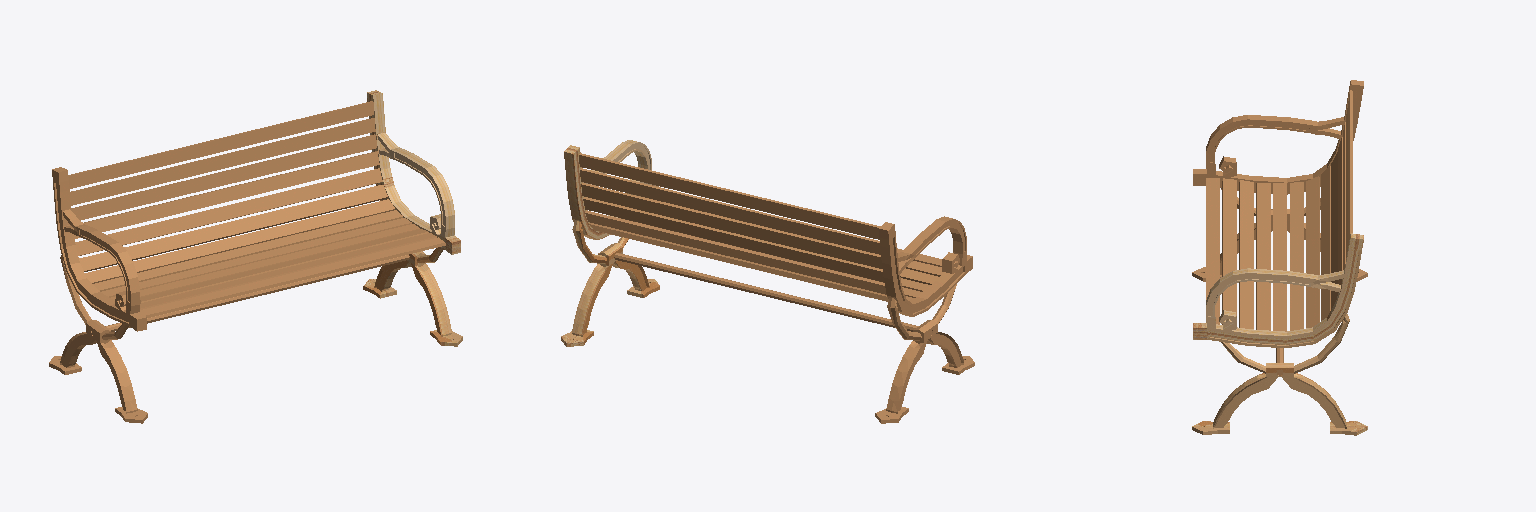
The picture shows the model from 3 angles: view 1: azimuth 30°, elevation 25°; view 2: azimuth 150°, elevation 25°; view 3: azimuth 270°, elevation 25°; orthographic projection.
Visible parts, largest first — view 1: Bench_LowRes; view 2: Bench_LowRes; view 3: Bench_LowRes.
Part boxes in pixels (left/top/right/bottom): Bench_LowRes: left=49, top=90, right=462, bottom=423; Bench_LowRes: left=561, top=140, right=974, bottom=423; Bench_LowRes: left=1192, top=80, right=1367, bottom=435.
Size of the model in its own units: 176 by 96.85 by 79.41.
Materials: 1 (1 with a texture image).